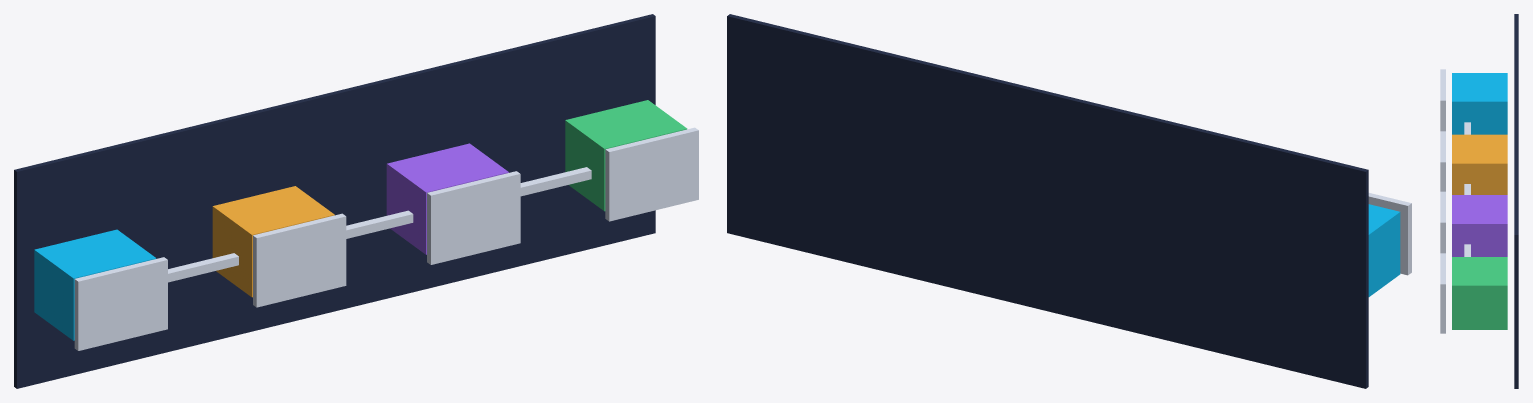
3 views of the same model, side by side, from view 1: azimuth 30°, elevation 25°; view 2: azimuth 150°, elevation 25°; view 3: azimuth 270°, elevation 25° (orthographic). The views are drawn at different scales.
Visible parts, largest first — view 1: vision-feedback-loop; view 2: vision-feedback-loop; view 3: vision-feedback-loop.
Part boxes in pixels (x1,y1,x2,y2): vision-feedback-loop: (14, 14, 698, 388); vision-feedback-loop: (727, 14, 1411, 388); vision-feedback-loop: (1440, 14, 1518, 388).
Bounding box in the file's own units: 7.7 × 2.5 × 1.15.
